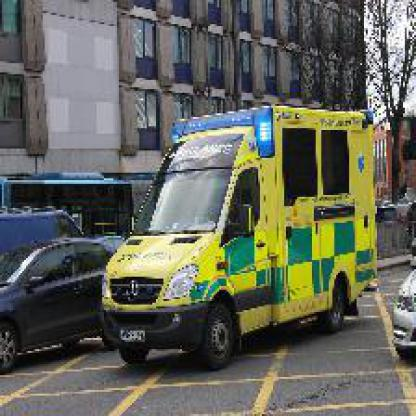emergency: (96, 102, 380, 375)
not_emergency: (2, 228, 122, 377)
